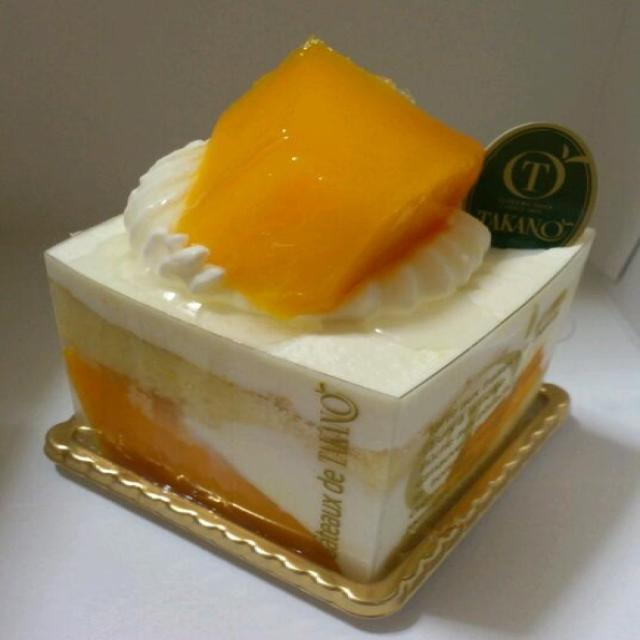蛋糕甜品: (25, 21, 619, 621)
